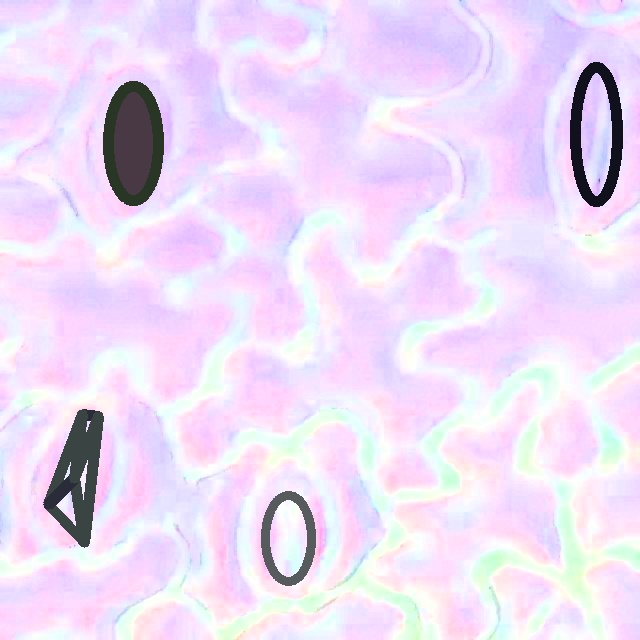close: (260, 489, 317, 587)
open: (44, 409, 103, 546), (102, 81, 163, 206), (569, 62, 622, 205)
